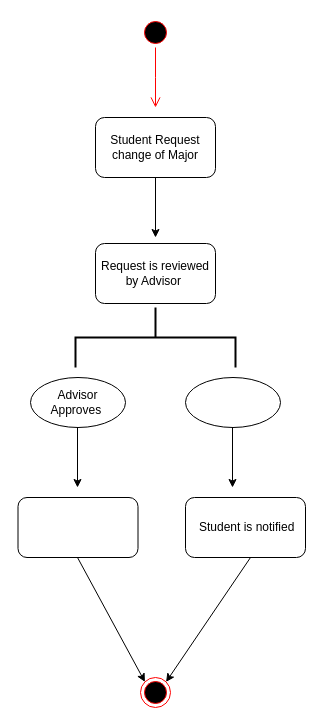
Some shapes in this 323 by 725 pixel diagram are drawn without their labels. The shapes that lost their labels are listed below. From the top down, each one's centre as x and y in pixels, then its label:
point 232,402: Advisor Denies
point 77,527: Major is updated and Student is notified
